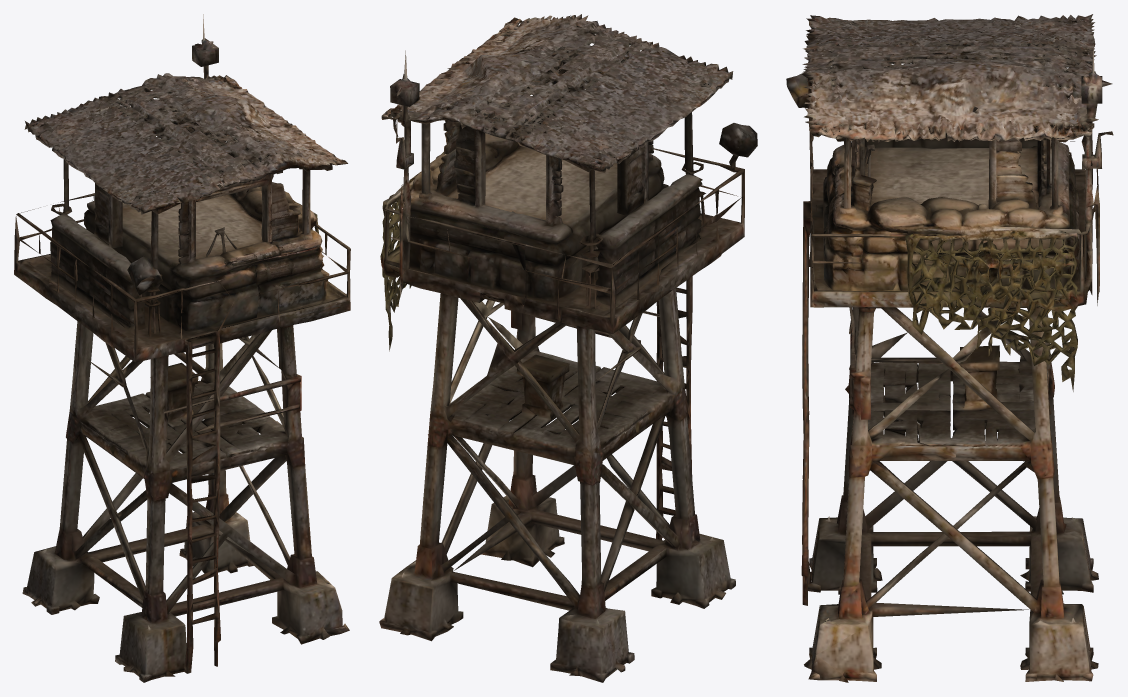
The model's file is rusted watchtower 3d model.glb.
The picture shows the model from 3 angles, left to right: view 1: azimuth 30°, elevation 25°; view 2: azimuth 150°, elevation 25°; view 3: azimuth 270°, elevation 25°; orthographic projection. The views are drawn at different scales.
Visible parts, largest first — view 1: tripo_node_e34c17c7-1a11-4ae2-be1c-854adf152580; view 2: tripo_node_e34c17c7-1a11-4ae2-be1c-854adf152580; view 3: tripo_node_e34c17c7-1a11-4ae2-be1c-854adf152580.
Part boxes in pixels (left/top/right/bottom): tripo_node_e34c17c7-1a11-4ae2-be1c-854adf152580: left=14, top=14, right=350, bottom=682; tripo_node_e34c17c7-1a11-4ae2-be1c-854adf152580: left=379, top=14, right=757, bottom=682; tripo_node_e34c17c7-1a11-4ae2-be1c-854adf152580: left=786, top=14, right=1113, bottom=682.
Bounding box in the file's own units: 0.458 × 0.9995 × 0.4733.
Materials: 1 (1 with a texture image).
